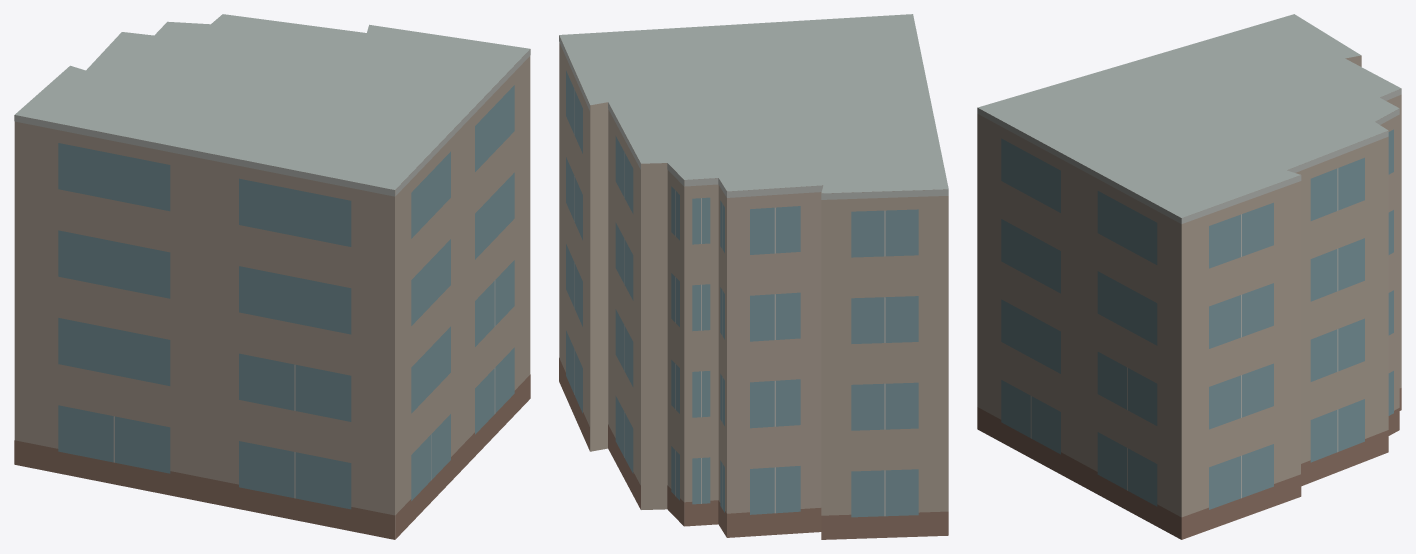
Rendered from survey-upis-32887729.glb.
3 renders of one model, left to right at view 1: azimuth 30°, elevation 25°; view 2: azimuth 150°, elevation 25°; view 3: azimuth 270°, elevation 25°, orthographic. The views are drawn at different scales.
Parts seen in each view (by area): view 1: survey-upis-32887729.tmp; view 2: survey-upis-32887729.tmp; view 3: survey-upis-32887729.tmp.
Boxes of the visible parts, box(x1,y1,x2,y2) form: survey-upis-32887729.tmp: box(14, 14, 530, 539); survey-upis-32887729.tmp: box(559, 14, 948, 539); survey-upis-32887729.tmp: box(977, 14, 1401, 539).
Bounding box in the file's own units: 17.56 × 12.9 × 15.42.
